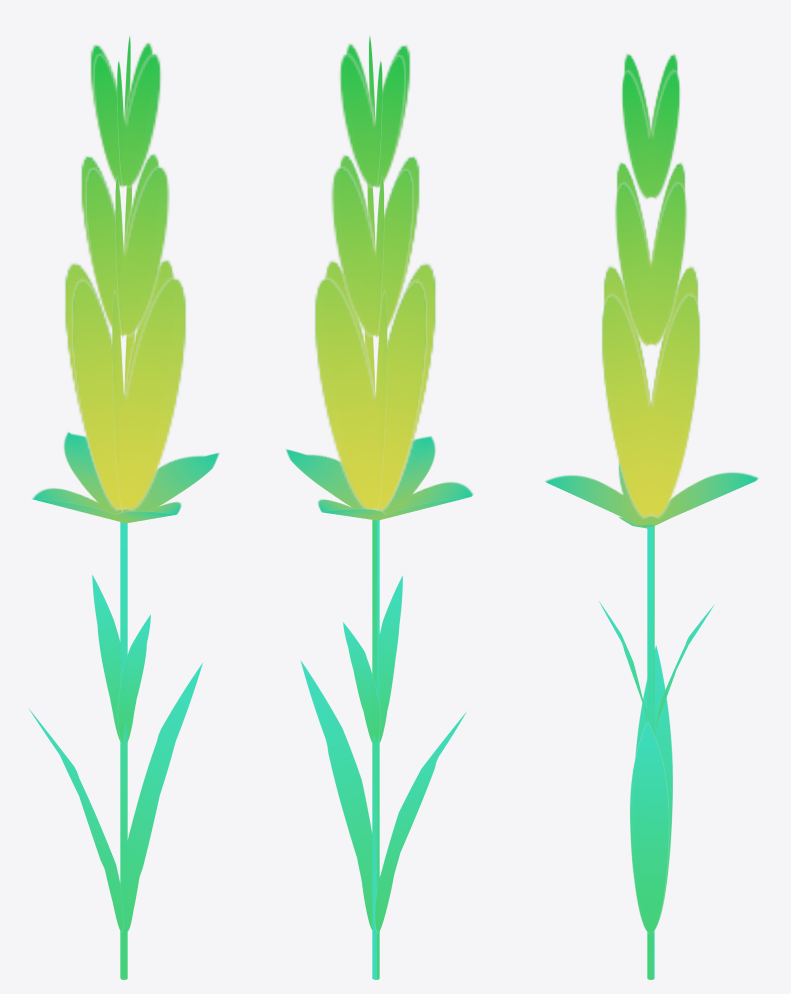
File: Flowers_n03_17.glb
3 views of the same model, side by side, from view 1: azimuth 30°, elevation 25°; view 2: azimuth 150°, elevation 25°; view 3: azimuth 270°, elevation 25° (orthographic).
Visible parts, largest first — view 1: polySurface591; view 2: polySurface591; view 3: polySurface591.
Boxes of the visible parts, x1,y1,x2,y2 form: polySurface591: (28, 35, 219, 979); polySurface591: (285, 35, 473, 979); polySurface591: (545, 53, 758, 979).
Bounding box in the file's own units: 0.2859 × 1.17 × 0.2858.
Materials: 1 (1 with a texture image).
